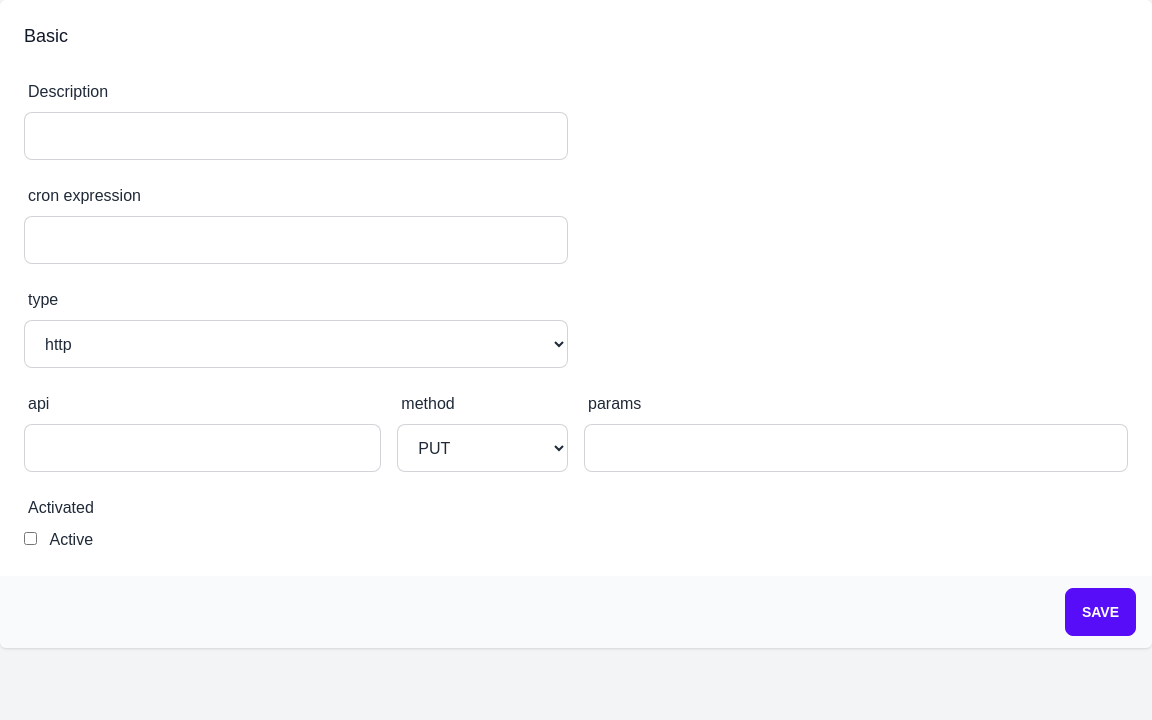
Test: TaskDefinitionForm › should display required error when value is invalid
Click the button "Save" at (1100, 612), box [1065,588,1136,636]
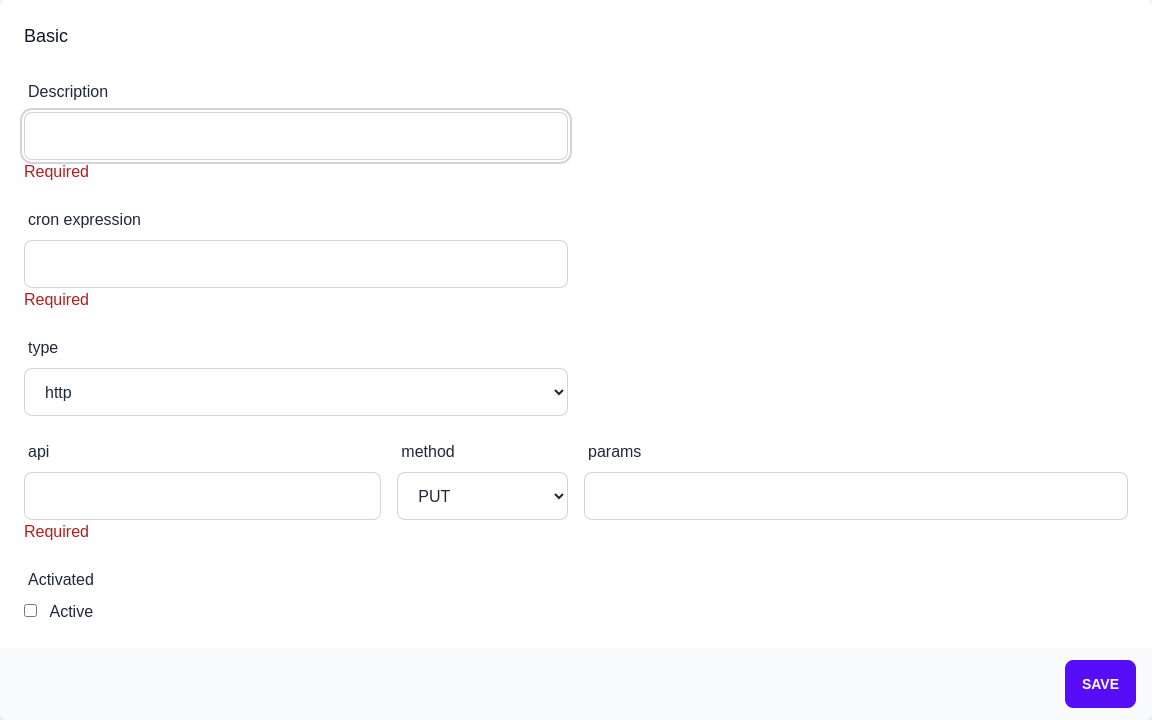
Now the number of messages is 3, box [24,163,89,180]; [24,291,89,308]; [24,523,89,540]
